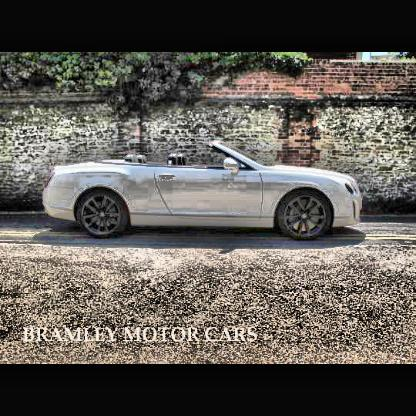Bentley Continental Supersports Conv- Convertible 2012: (45, 142, 363, 244)
